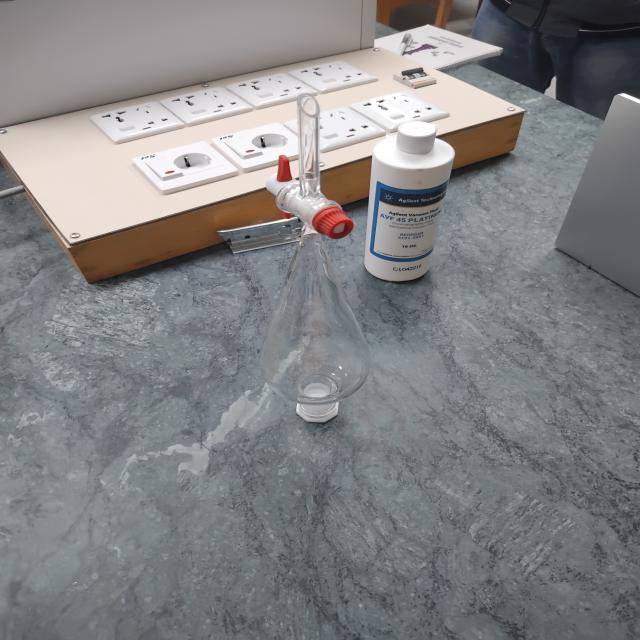Separating_Funnel: (228, 75, 394, 444)
